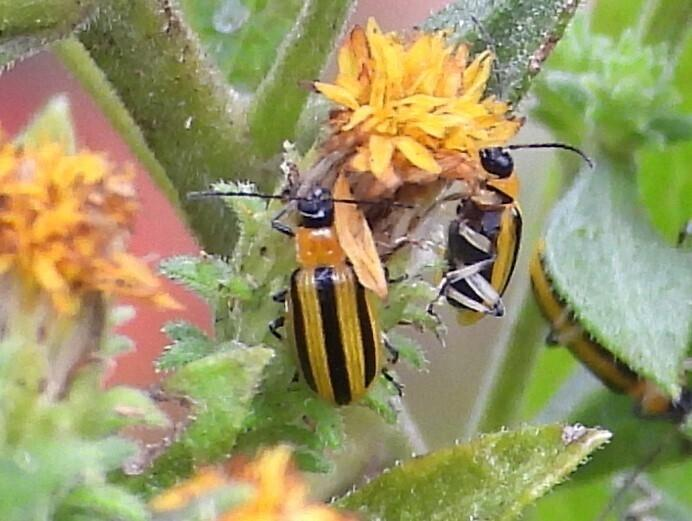potato_beetle: (175, 142, 443, 420), (411, 92, 604, 366)
